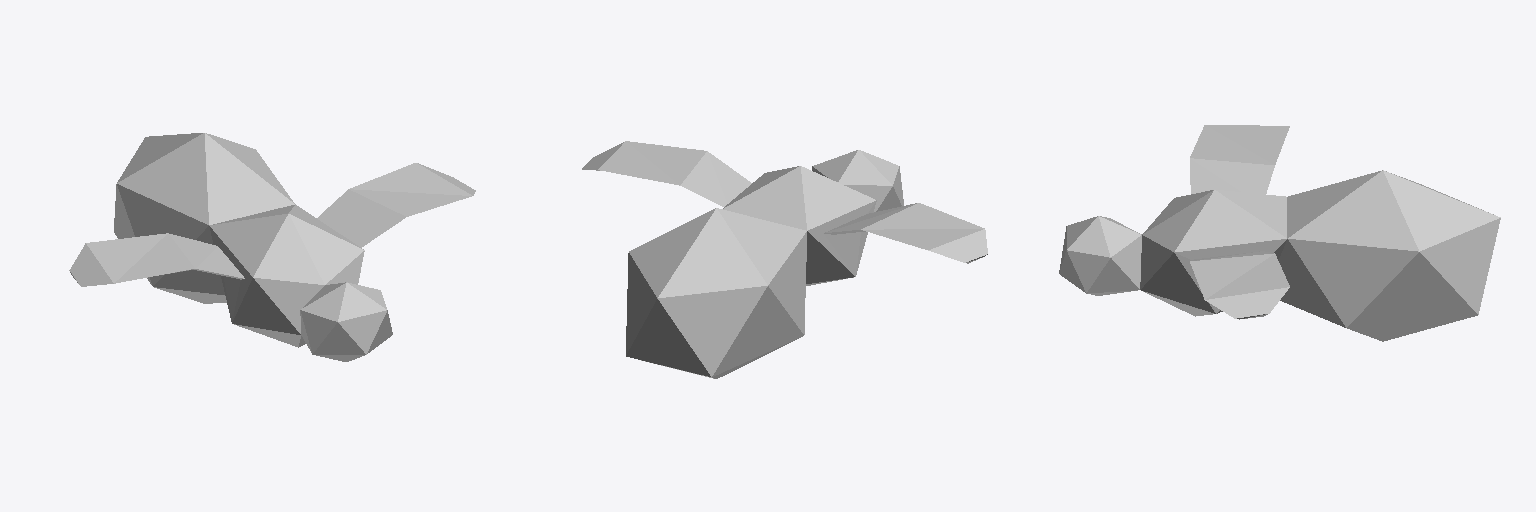
Rendered from Firefly.obj.
3 renders of one model, left to right at view 1: azimuth 30°, elevation 25°; view 2: azimuth 150°, elevation 25°; view 3: azimuth 270°, elevation 25°, orthographic.
Parts seen in each view (by area): view 1: Fire_Fly_Icosphere.003; view 2: Fire_Fly_Icosphere.003; view 3: Fire_Fly_Icosphere.003.
Part boxes in pixels (x1,y1,x2,y2): Fire_Fly_Icosphere.003: (69, 133, 475, 361); Fire_Fly_Icosphere.003: (582, 141, 987, 378); Fire_Fly_Icosphere.003: (1059, 125, 1500, 341).
Bounding box in the file's own units: 0.8223 × 0.3412 × 0.7966.